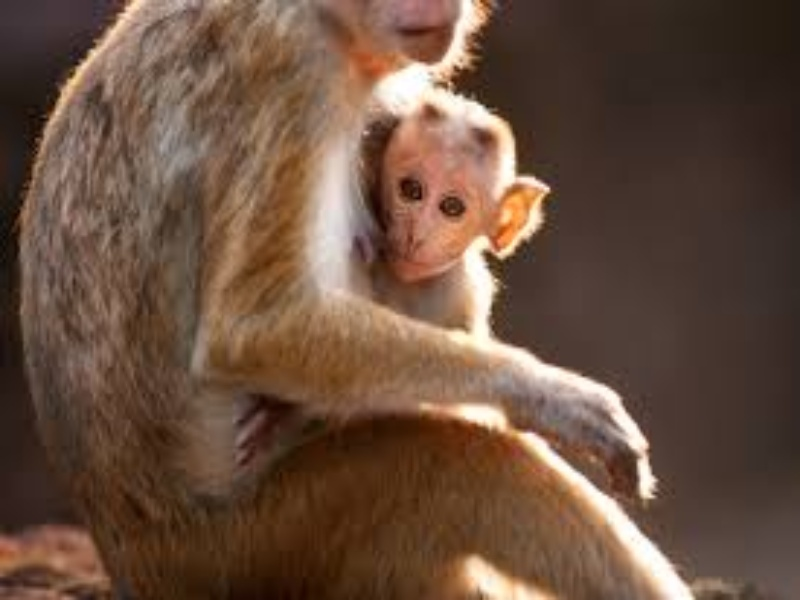monkey: (29, 11, 725, 588)
